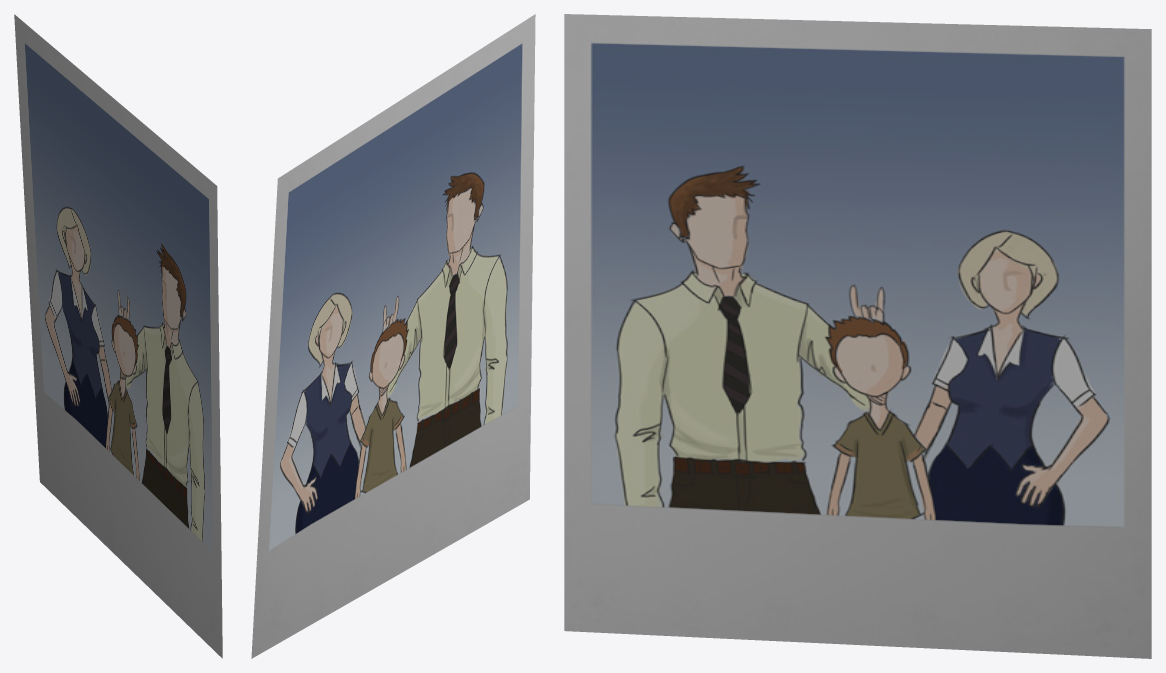
The model's file is Foto_2.fbx.
The picture shows the model from 3 angles, left to right: view 1: azimuth 30°, elevation 25°; view 2: azimuth 150°, elevation 25°; view 3: azimuth 270°, elevation 25°; orthographic projection. The views are drawn at different scales.
Parts seen in each view (by area): view 1: pPlane4; view 2: pPlane4; view 3: pPlane4.
Boxes of the visible parts, box(x1,y1,x2,y2) form: pPlane4: box(14, 14, 222, 658); pPlane4: box(251, 14, 535, 658); pPlane4: box(564, 14, 1151, 658).
Bounding box in the file's own units: 1.9 × 17.35 × 15.05.
